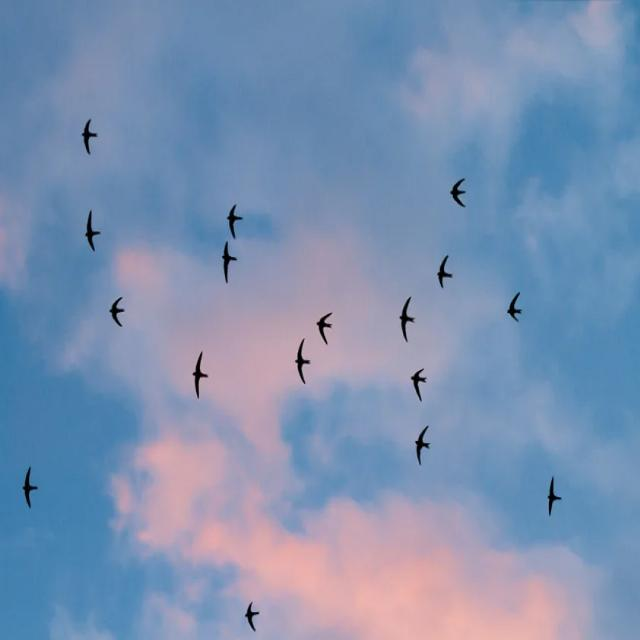bird: (78, 111, 104, 165), (544, 466, 566, 521), (397, 293, 418, 346), (191, 348, 211, 401), (21, 460, 40, 512), (293, 335, 312, 387), (224, 197, 246, 240), (221, 237, 241, 283), (81, 207, 102, 250), (408, 365, 431, 404), (106, 292, 128, 332), (413, 427, 434, 464), (448, 176, 471, 209), (504, 290, 526, 324), (434, 255, 456, 288), (315, 311, 335, 345), (243, 601, 259, 635)
